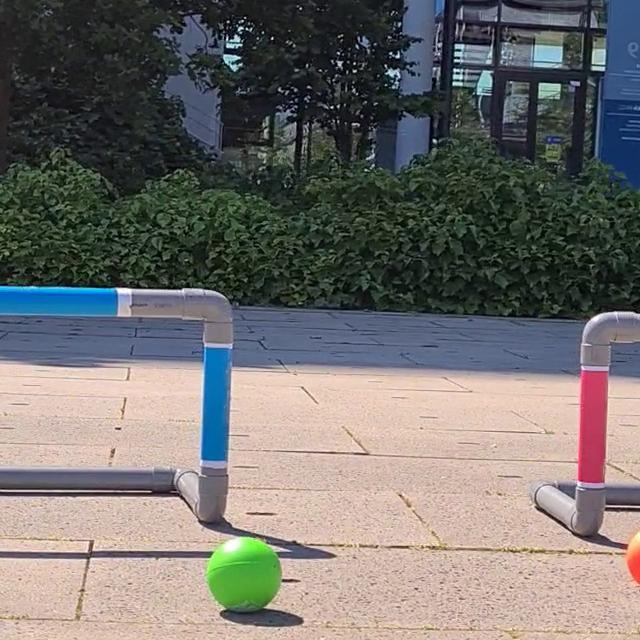ball: (206, 532, 284, 621)
